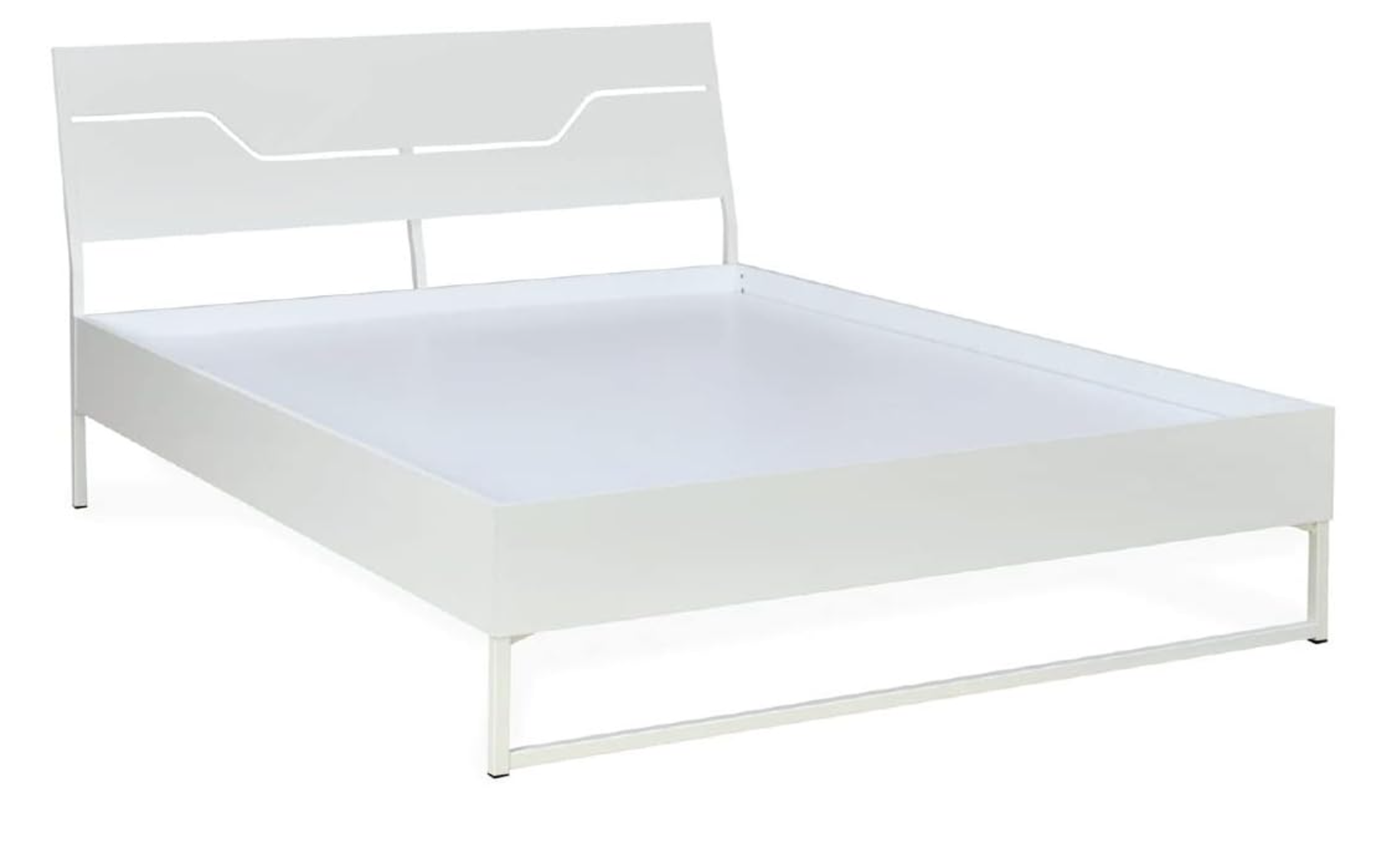cot: (19, 20, 1352, 803)
